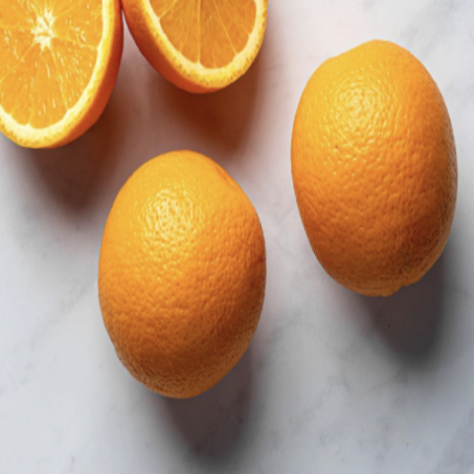orange: (275, 35, 466, 303), (82, 143, 279, 395)
